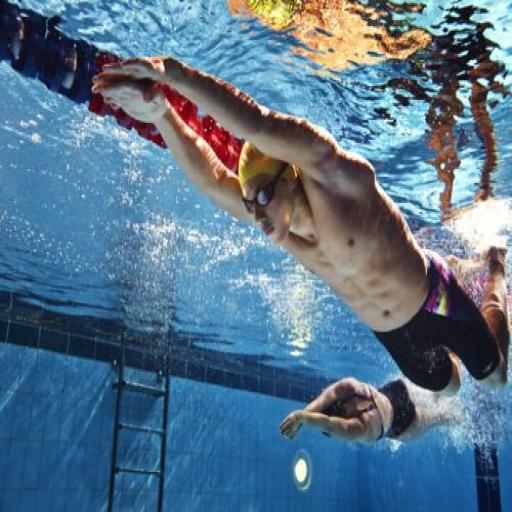swimming: (88, 50, 511, 400), (276, 374, 465, 450)
